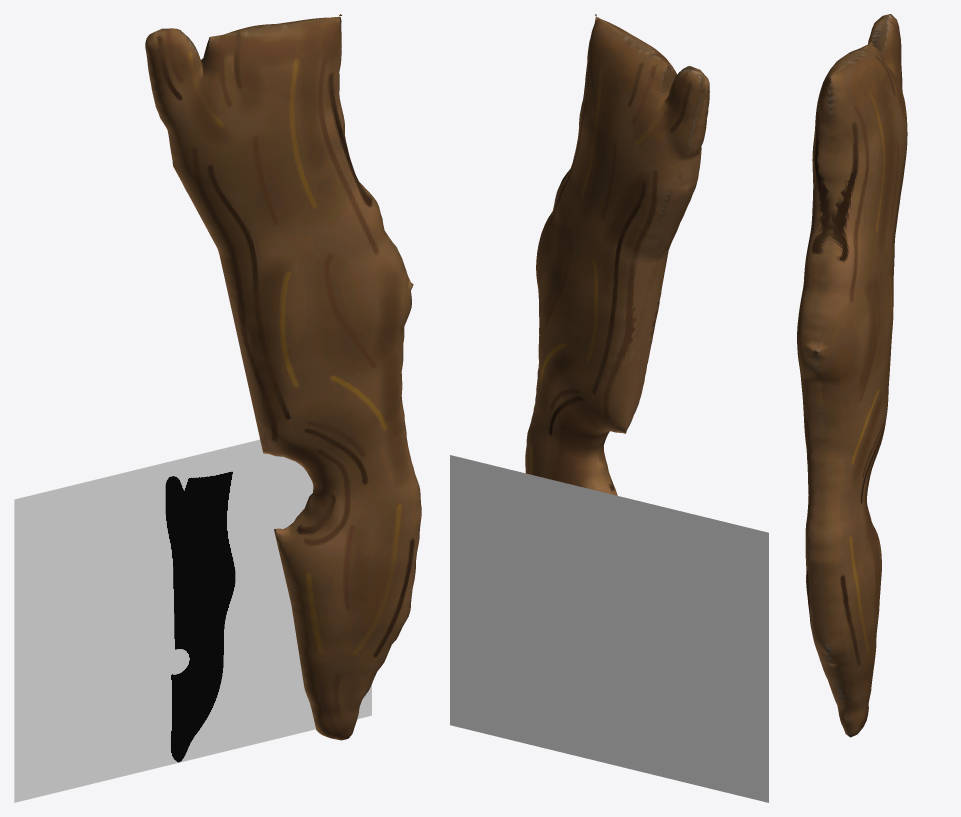
File: driftwoodlarge.fbx
3 views of the same model, side by side, from view 1: azimuth 30°, elevation 25°; view 2: azimuth 150°, elevation 25°; view 3: azimuth 270°, elevation 25° (orthographic). The views are drawn at different scales.
Parts seen in each view (by area): view 1: root (×3); view 2: root (×2); view 3: root.
Boxes of the visible parts, x1,y1,x2,y2 form: root (×3): (14,14,421,802); root (×2): (450,14,768,802); root: (797,14,907,737).
Bounding box in the file's own units: 0.696 × 1.44 × 0.2849.
Materials: 3 (3 with a texture image).
